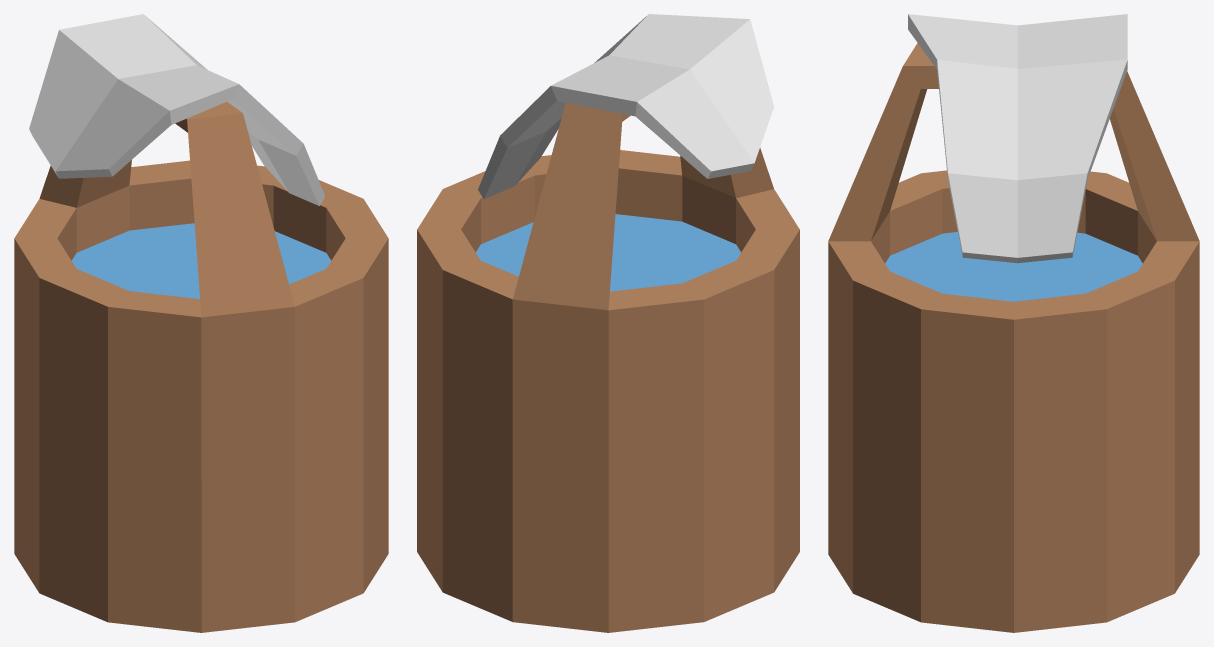
Rendered from bucket.fbx.
The picture shows the model from 3 angles, left to right: view 1: azimuth 30°, elevation 25°; view 2: azimuth 150°, elevation 25°; view 3: azimuth 270°, elevation 25°; orthographic projection. The views are drawn at different scales.
Parts seen in each view (by area): view 1: Cylinder; view 2: Cylinder; view 3: Cylinder.
Part boxes in pixels (<box>): Cylinder: <box>14,14,388,632</box>; Cylinder: <box>417,14,799,632</box>; Cylinder: <box>828,14,1199,632</box>.
Size of the model in its own units: 86 by 128 by 86.
